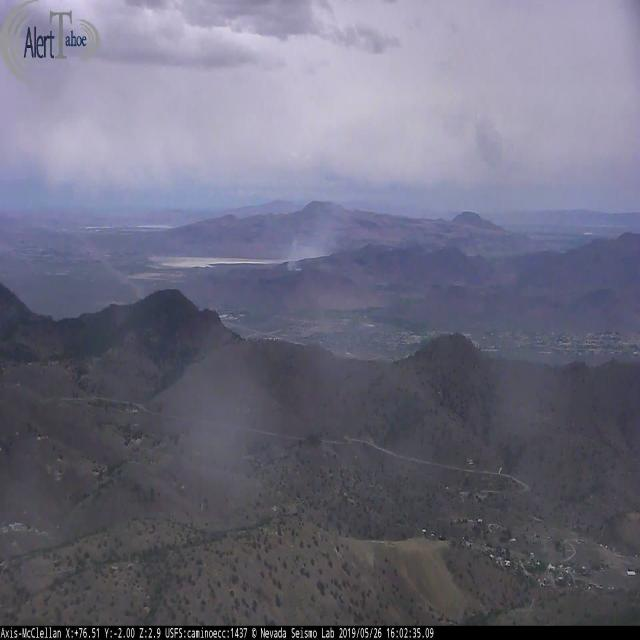smoke: (289, 237, 302, 270)
